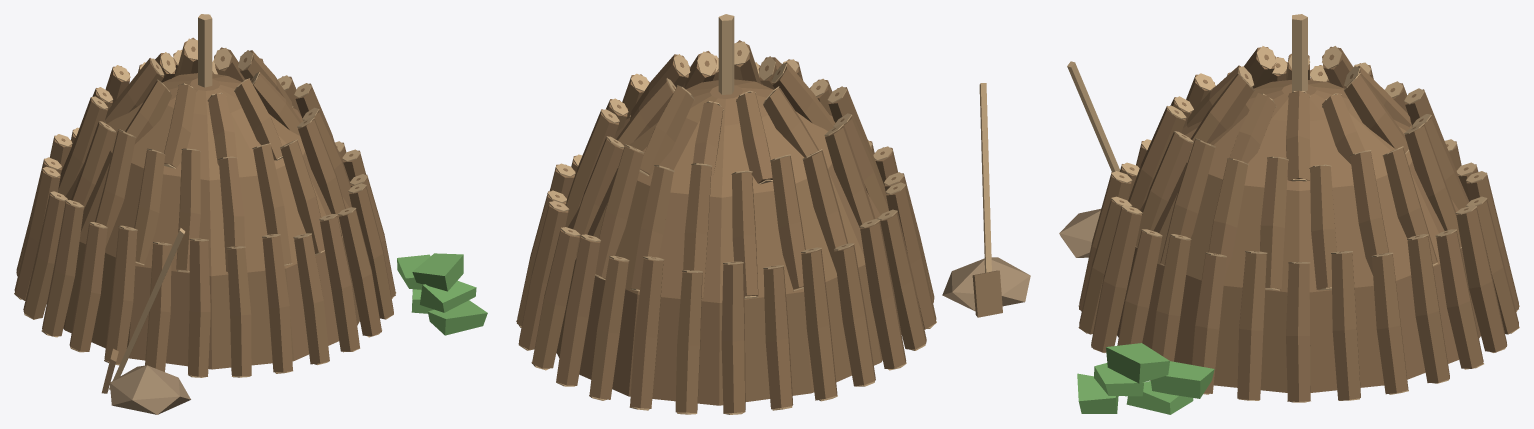
File: building_charcoal_clamp_complete.glb
The picture shows the model from 3 angles, left to right: view 1: azimuth 30°, elevation 25°; view 2: azimuth 150°, elevation 25°; view 3: azimuth 270°, elevation 25°; orthographic projection. The views are drawn at different scales.
Parts seen in each view (by area): view 1: building_charcoal_clamp_complete; view 2: building_charcoal_clamp_complete; view 3: building_charcoal_clamp_complete.
Part boxes in pixels (left/top/right/bottom): building_charcoal_clamp_complete: left=14, top=14, right=487, bottom=414; building_charcoal_clamp_complete: left=516, top=14, right=1030, bottom=414; building_charcoal_clamp_complete: left=1059, top=14, right=1519, bottom=414.
Size of the model in its own units: 2 by 1.45 by 2.
